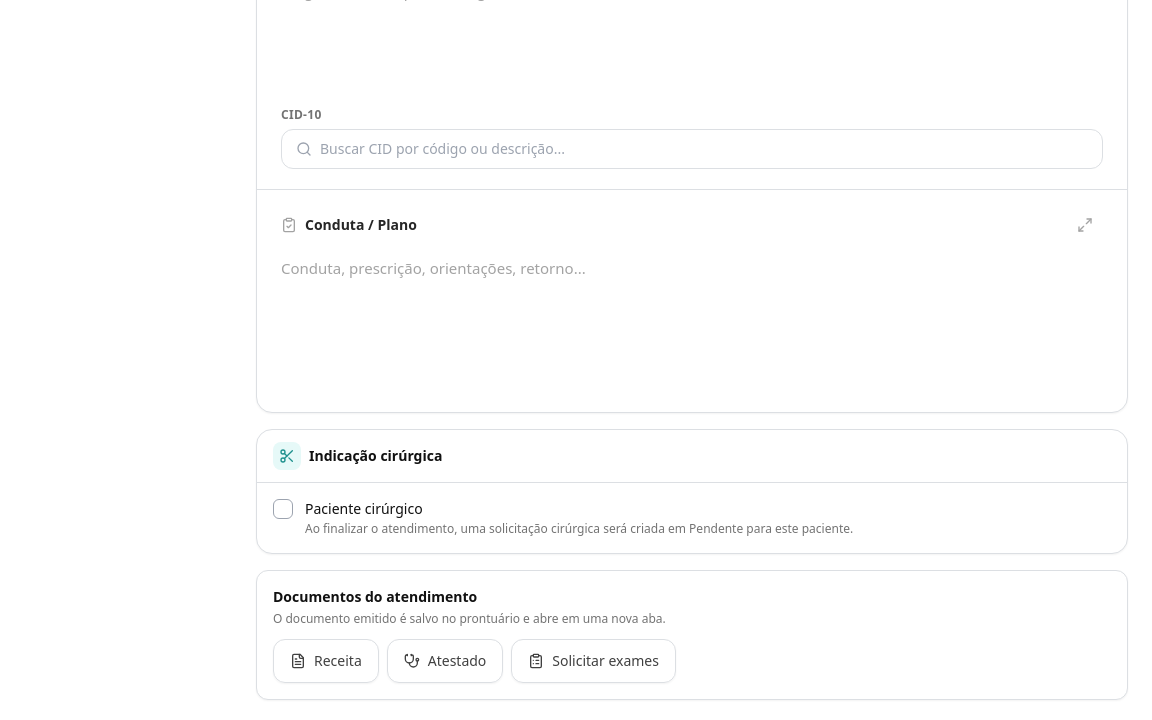
Scenario: AtendimentoTabs › avisa que a SC está em criação quando o backend não devolve o id
(page scrolled)
Click the checkbox named "Paciente cirúrgico".
click(283, 509)  # box 273,499 -> 293,519
(page scrolled)
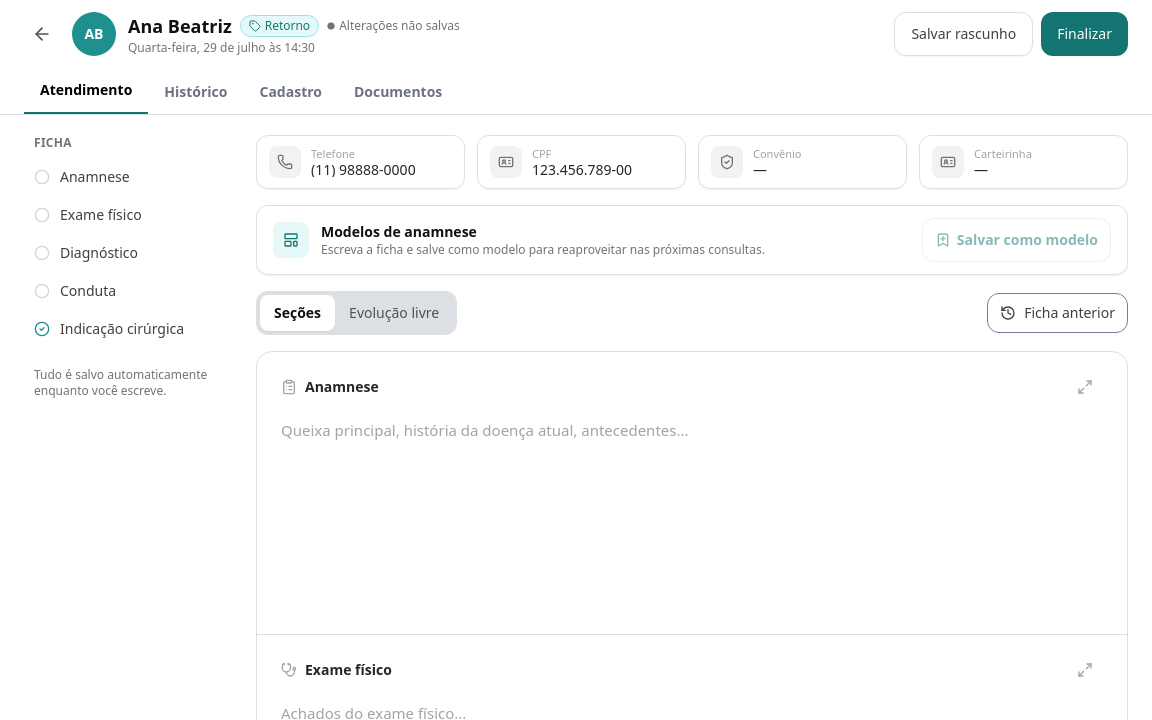
Click the button "Finalizar".
click(1085, 34)  # box 1041,12 -> 1128,56
(page scrolled)
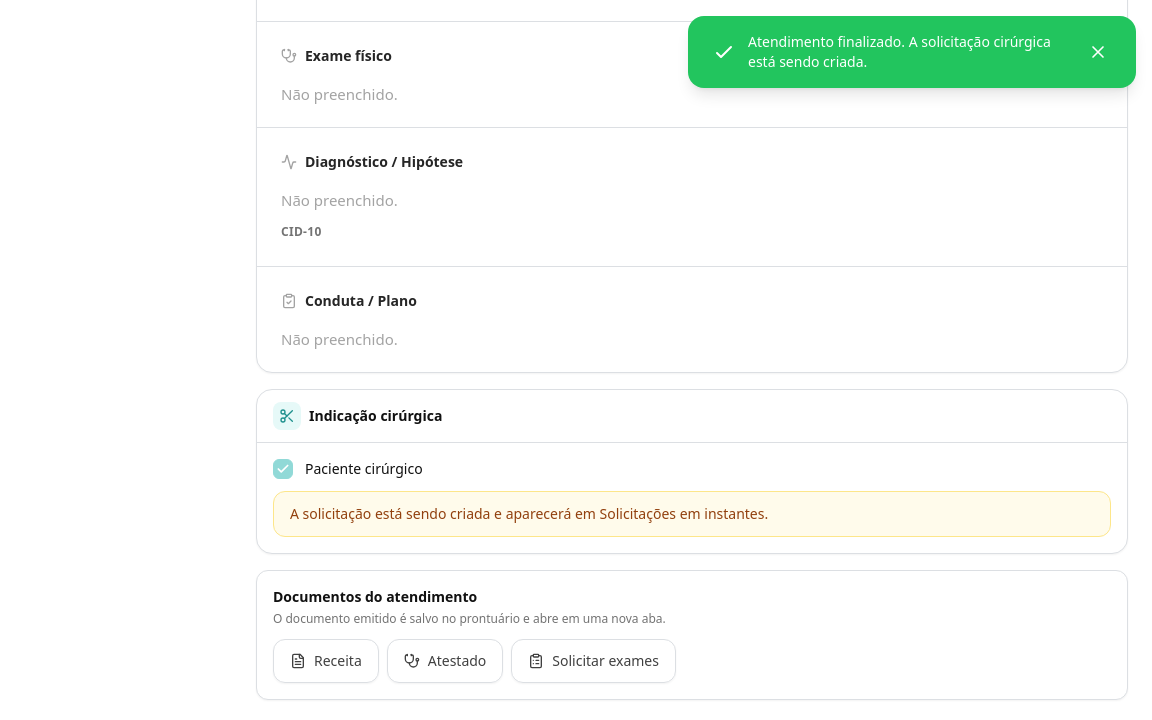
Expected: the text "Atendimento finalizado. A solicitação cirúrgica está sendo criada." is shown, 748,32 -> 1072,72
Expected: the text "A solicitação está sendo criada e aparecerá em Solicitações em instantes." is shown, 273,490 -> 1111,536
